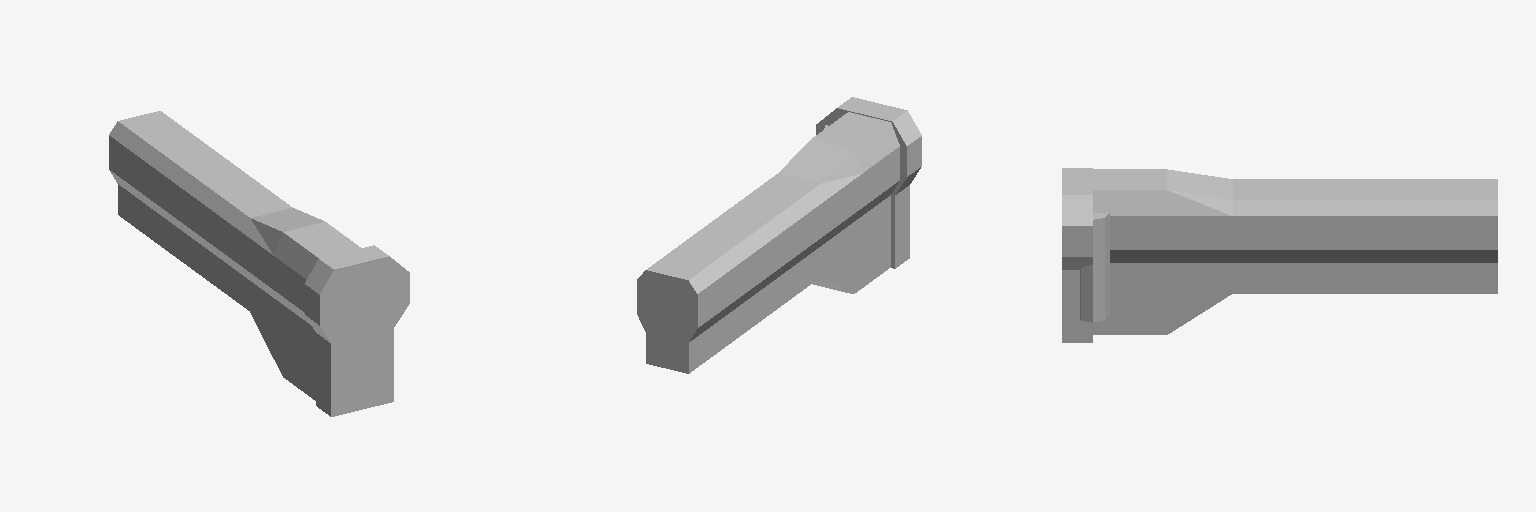
The model's file is Stock31.obj.
3 renders of one model, left to right at view 1: azimuth 30°, elevation 25°; view 2: azimuth 150°, elevation 25°; view 3: azimuth 270°, elevation 25°, orthographic.
Parts seen in each view (by area): view 1: Cube; view 2: Cube; view 3: Cube.
Part boxes in pixels (x1,y1,x2,y2): Cube: (109, 111, 409, 416); Cube: (637, 97, 921, 373); Cube: (1062, 168, 1497, 342).
Bounding box in the file's own units: 0.2112 × 0.327 × 0.8792.